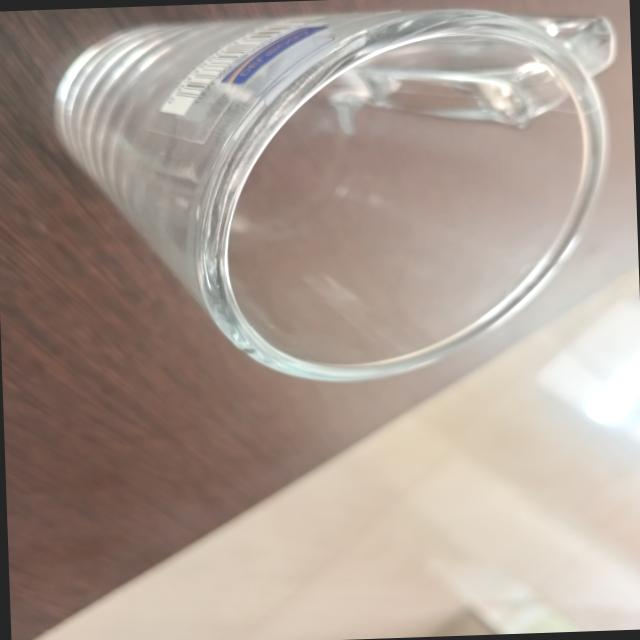glass-VX4N: (45, 3, 625, 385)
